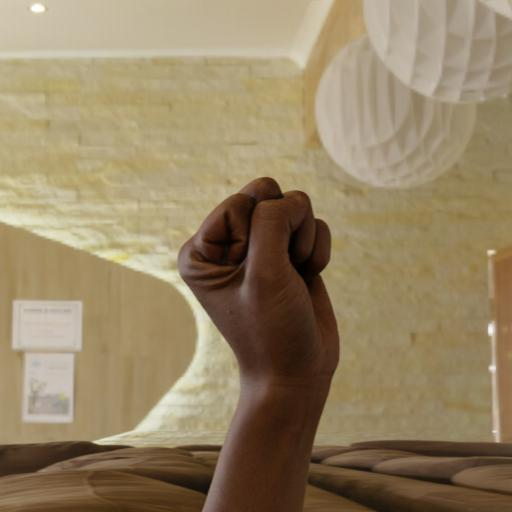S: (161, 150, 366, 393)
